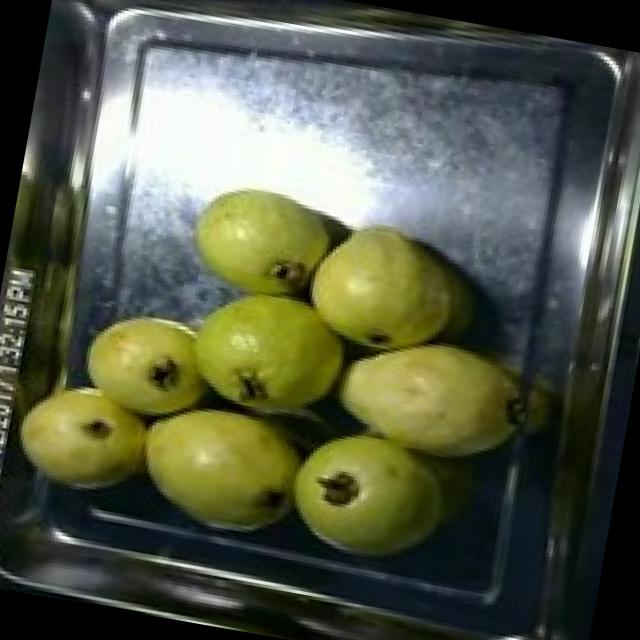Fruit: (310, 310, 536, 483), (167, 261, 377, 430), (122, 393, 337, 556), (290, 199, 486, 377), (260, 411, 461, 581), (61, 288, 242, 449), (173, 164, 352, 316), (0, 361, 168, 510)
